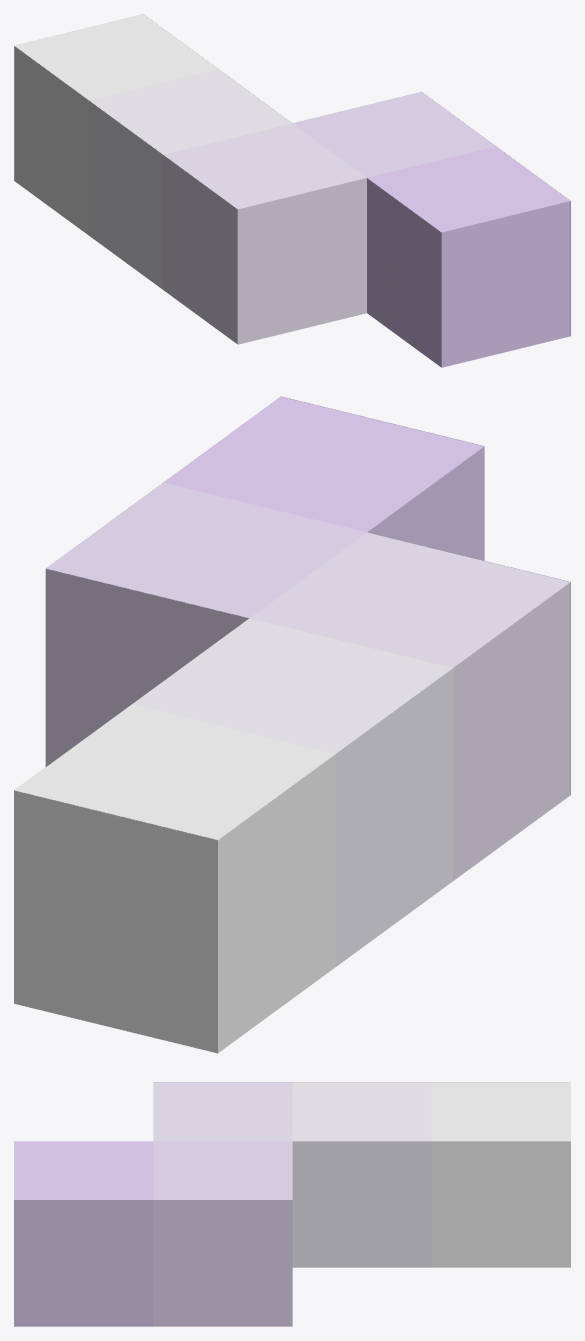
The model's file is VoidLordVoidMawLowerTooth.obj.
3 renders of one model, top to bottom at view 1: azimuth 30°, elevation 25°; view 2: azimuth 150°, elevation 25°; view 3: azimuth 270°, elevation 25°, orthographic. The views are drawn at different scales.
Visible parts, largest first — view 1: VoidLordVoidMawLowerTooth; view 2: VoidLordVoidMawLowerTooth; view 3: VoidLordVoidMawLowerTooth.
Boxes of the visible parts, left/top/right/bottom form: VoidLordVoidMawLowerTooth: left=14, top=14, right=570, bottom=367; VoidLordVoidMawLowerTooth: left=14, top=396, right=570, bottom=1053; VoidLordVoidMawLowerTooth: left=14, top=1082, right=570, bottom=1326.
Size of the model in its own units: 2 by 1 by 4.
Materials: 1 (1 with a texture image).
